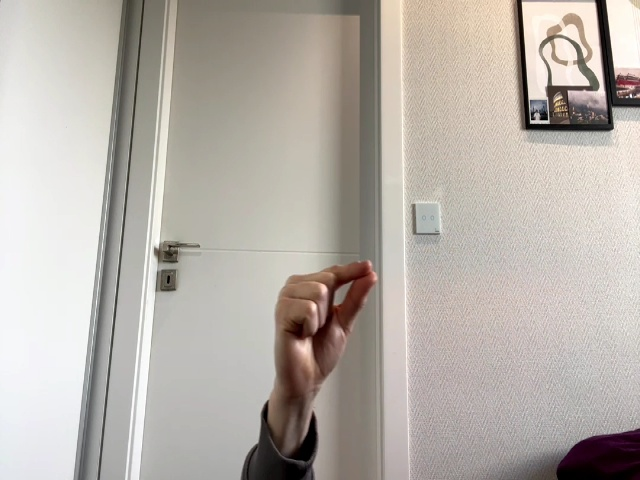P: (273, 260, 378, 395)
